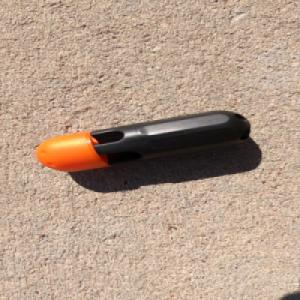PlasticPart: (33, 109, 252, 172)
